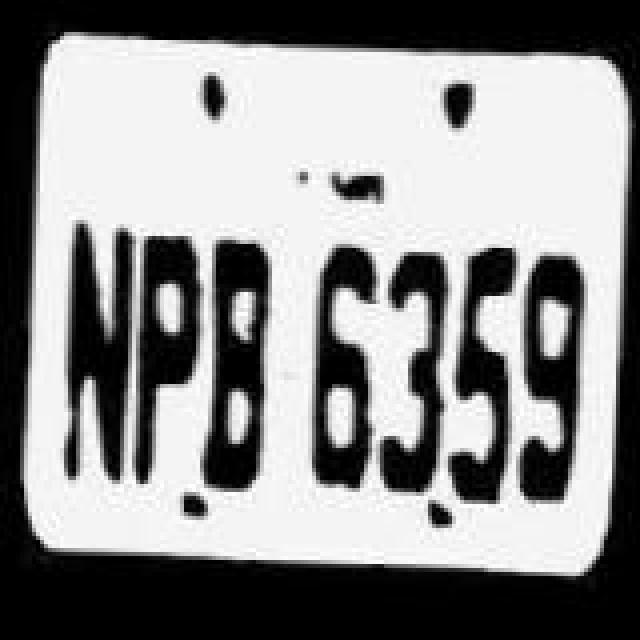3: (374, 246, 450, 498)
5: (446, 230, 522, 502)
6: (300, 232, 380, 488)
9: (508, 226, 588, 510)
B: (196, 234, 284, 498)
N: (50, 216, 134, 480)
P: (128, 220, 208, 488)
